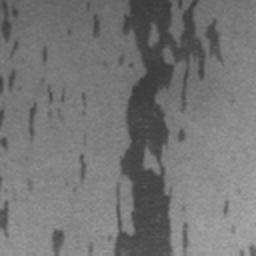Red iron sheet: (52, 0, 224, 256), (0, 0, 87, 149), (223, 200, 236, 234), (0, 201, 8, 236), (79, 154, 86, 182), (240, 245, 256, 256), (27, 178, 35, 193)
